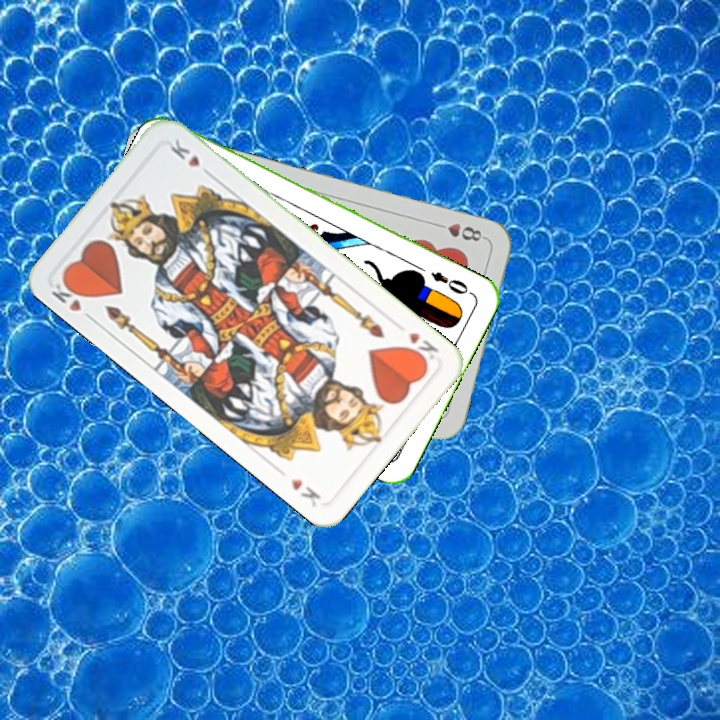EO: (426, 267, 476, 298)
H8: (430, 219, 488, 245)
HK: (47, 274, 97, 324), (401, 328, 441, 366)
